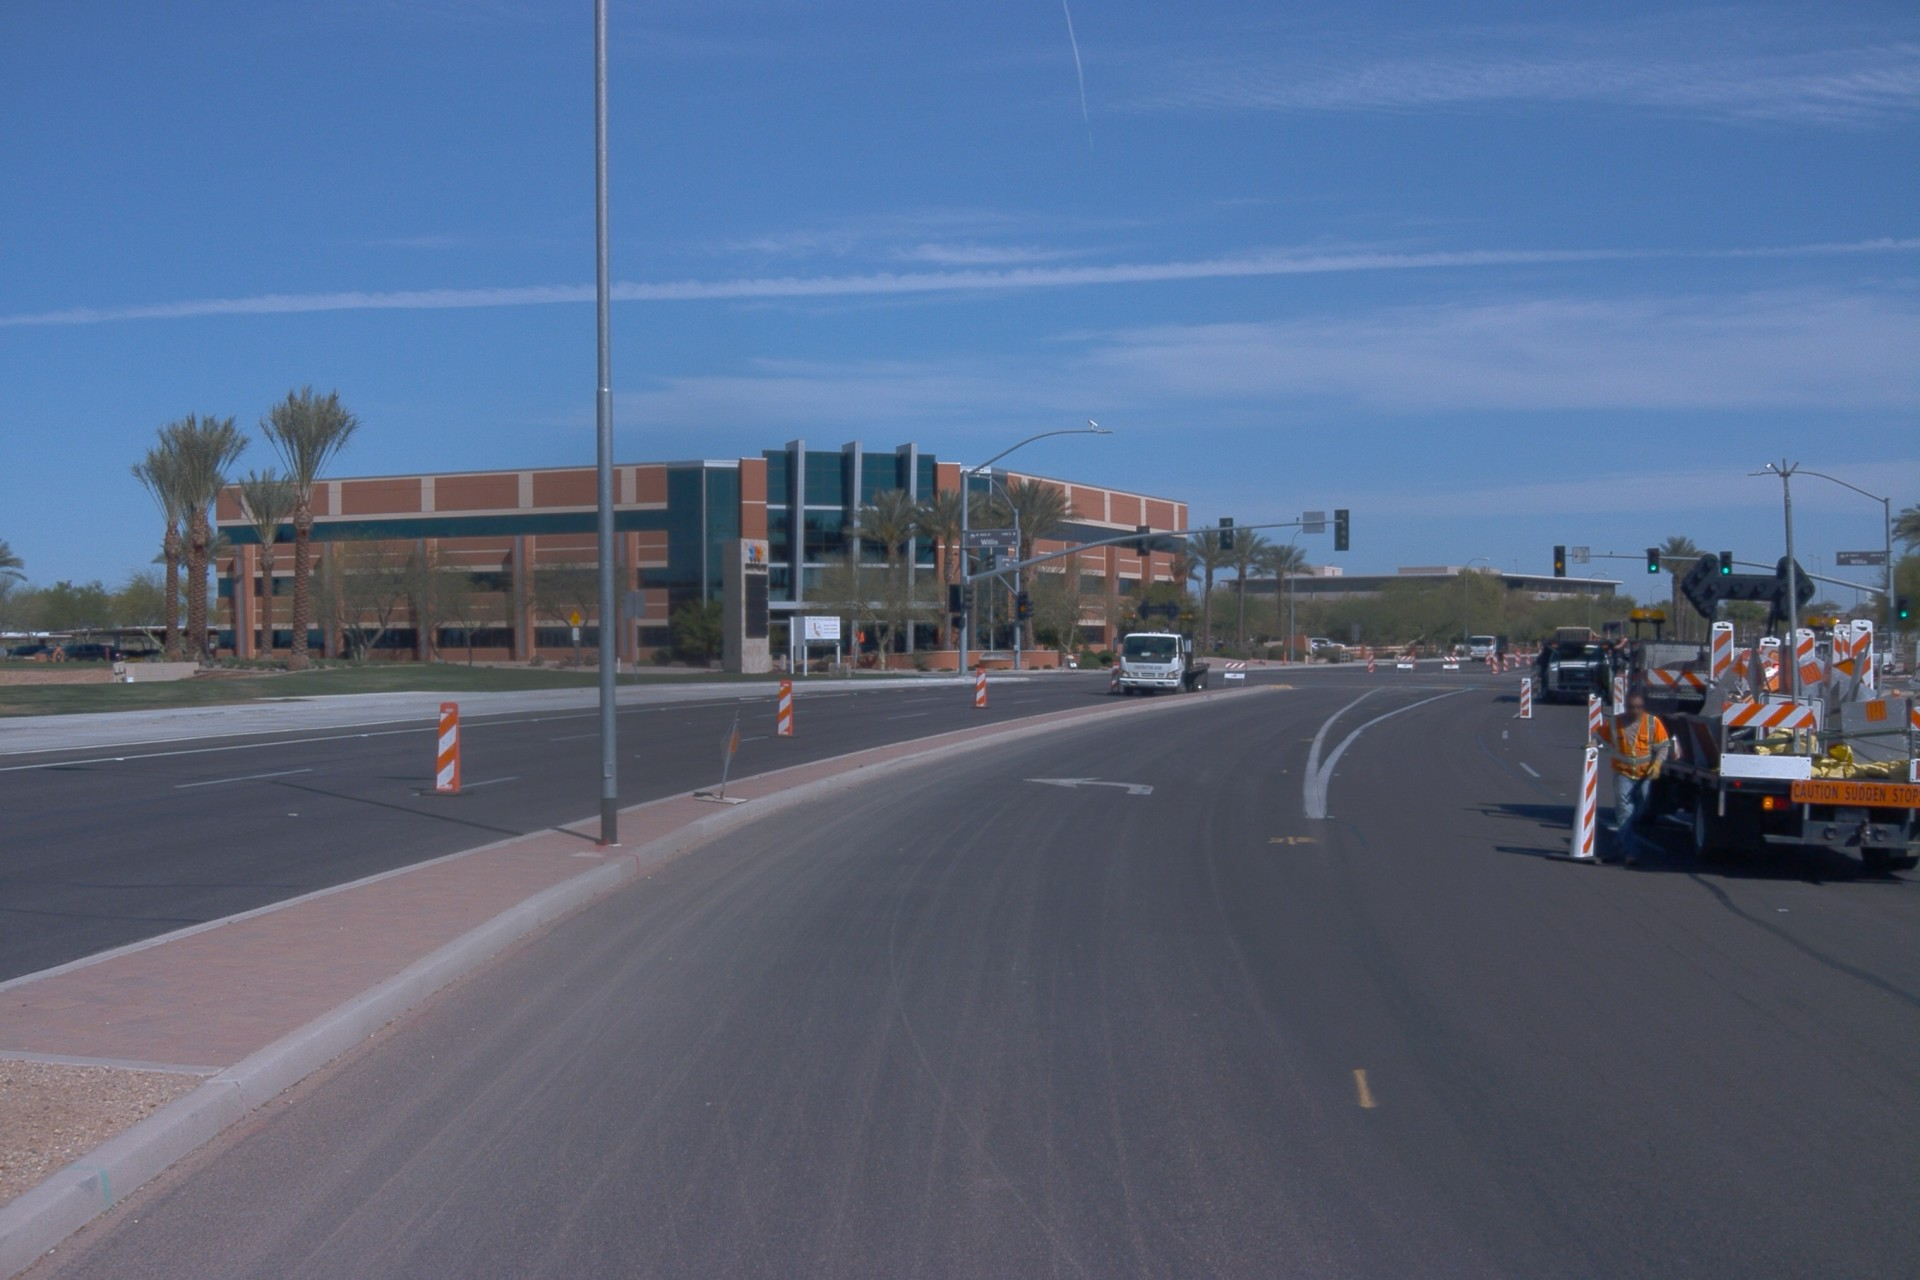TYPE_PEDESTRIAN: (1583, 690, 1674, 870)
TYPE_VEHICLE: (1572, 538, 1920, 891), (1531, 623, 1632, 711), (1112, 625, 1211, 699), (1862, 646, 1901, 686), (1466, 634, 1512, 666), (1306, 635, 1346, 653), (1526, 657, 1537, 676)
